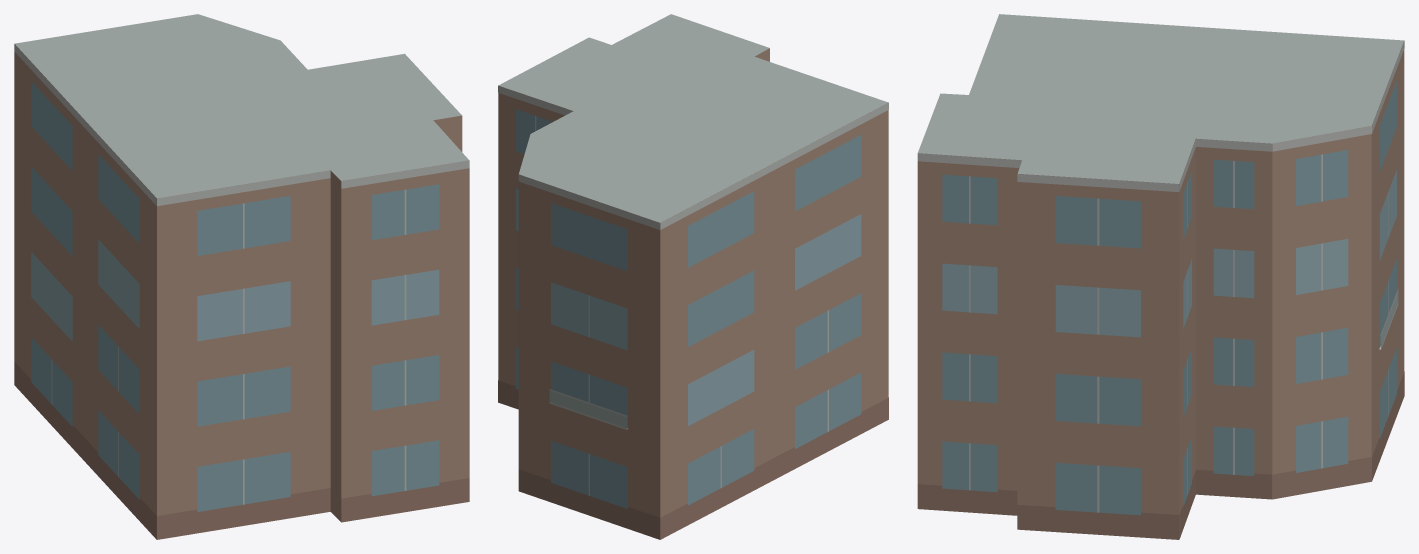
Rendered from survey-upis-32694363.glb.
The picture shows the model from 3 angles, left to right: view 1: azimuth 30°, elevation 25°; view 2: azimuth 150°, elevation 25°; view 3: azimuth 270°, elevation 25°; orthographic projection. The views are drawn at different scales.
Visible parts, largest first — view 1: survey-upis-32694363.tmp; view 2: survey-upis-32694363.tmp; view 3: survey-upis-32694363.tmp.
Boxes of the visible parts, x1,y1,x2,y2 form: survey-upis-32694363.tmp: (14, 14, 469, 539); survey-upis-32694363.tmp: (498, 14, 888, 539); survey-upis-32694363.tmp: (917, 14, 1404, 539).
Bounding box in the file's own units: 10.98 × 10.7 × 13.27.
